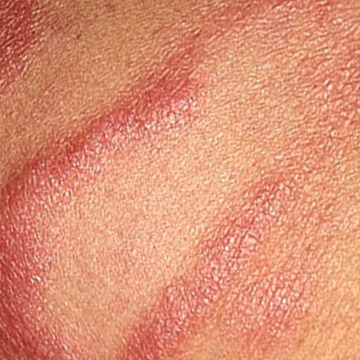Leprosy: (124, 159, 359, 359), (0, 101, 122, 357), (125, 0, 242, 152), (0, 0, 58, 89)
